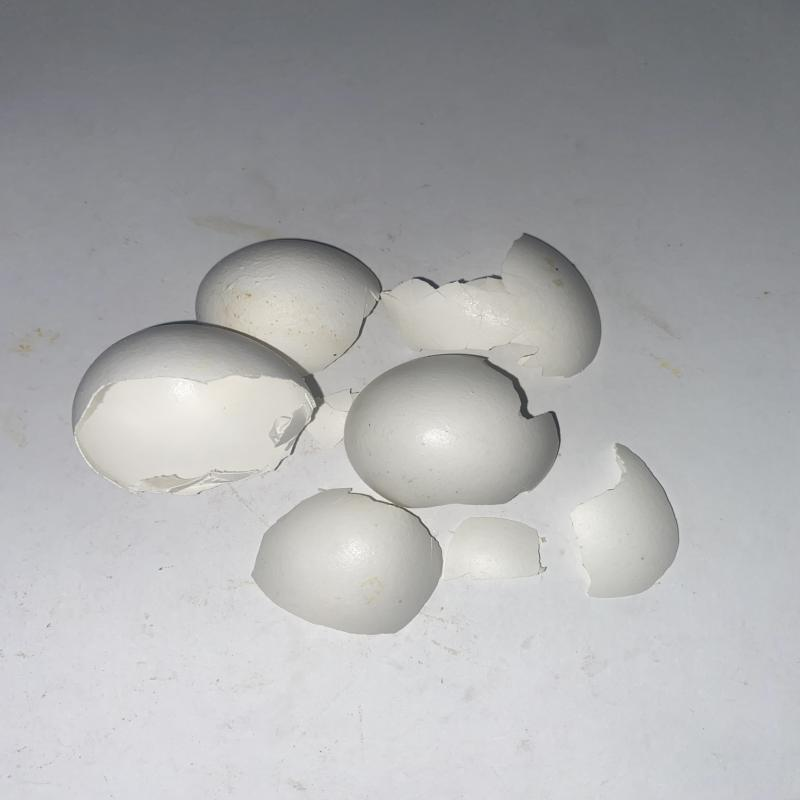egg shell: (68, 321, 321, 498), (341, 353, 564, 513), (381, 233, 602, 379), (249, 490, 446, 640), (193, 237, 385, 379), (570, 444, 681, 603), (446, 519, 554, 586)
